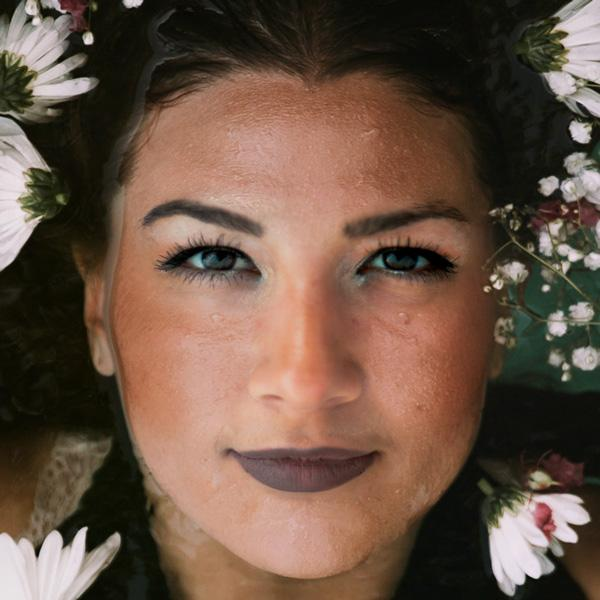Eyes: (349, 232, 462, 298), (150, 229, 268, 292)
